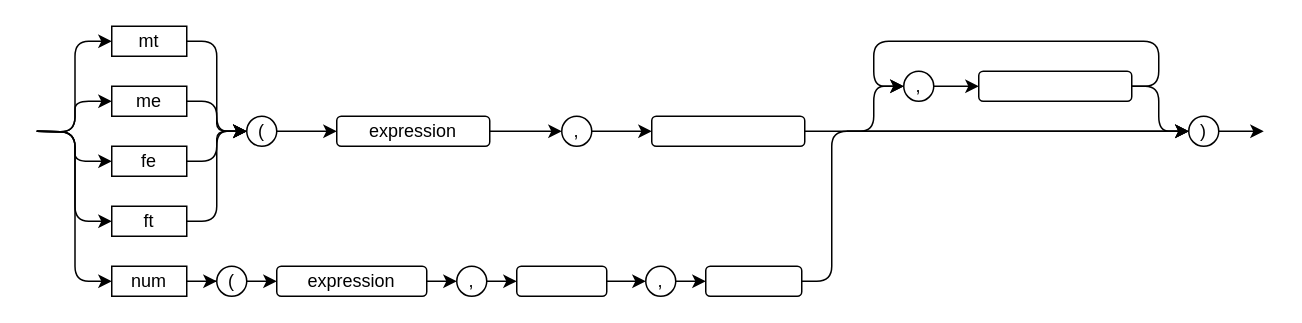
This 1302x323 diagram has some shape labels left out. The centre of each missing label's shape, as x and y in pixels:
lower: the point at 561,280
number: the point at 727,130
selector: the point at 1054,85
upper: the point at 753,280
